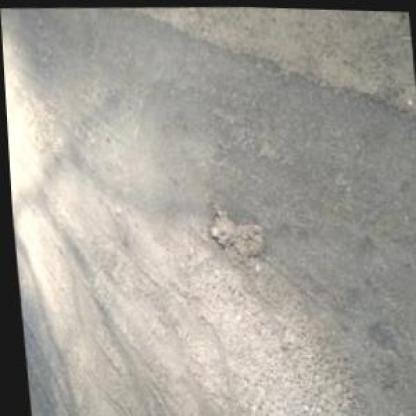pothole: (200, 192, 266, 260), (21, 94, 66, 165)
